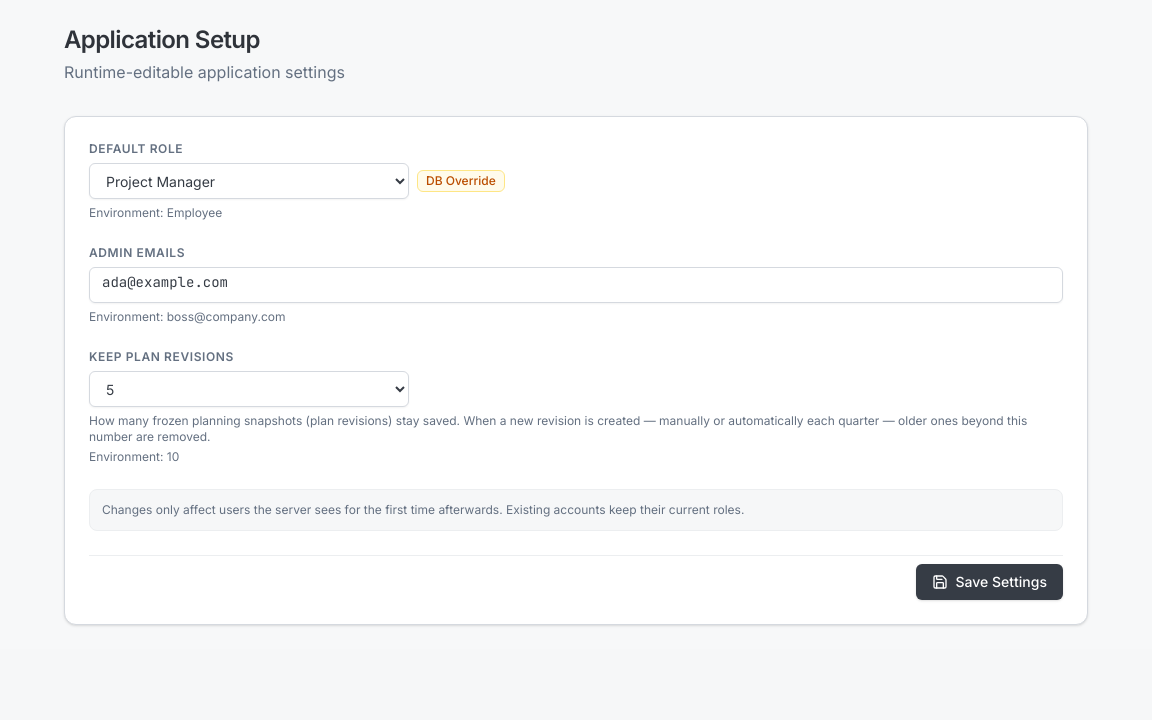
it: ApplicationSetup › blocks saving when an email line is invalid
This screenshot has width=1152, height=720.
Replace the text in the text box labelled "Admin Emails" with "not-an-email" at (576, 285), box [89,267,1063,303]
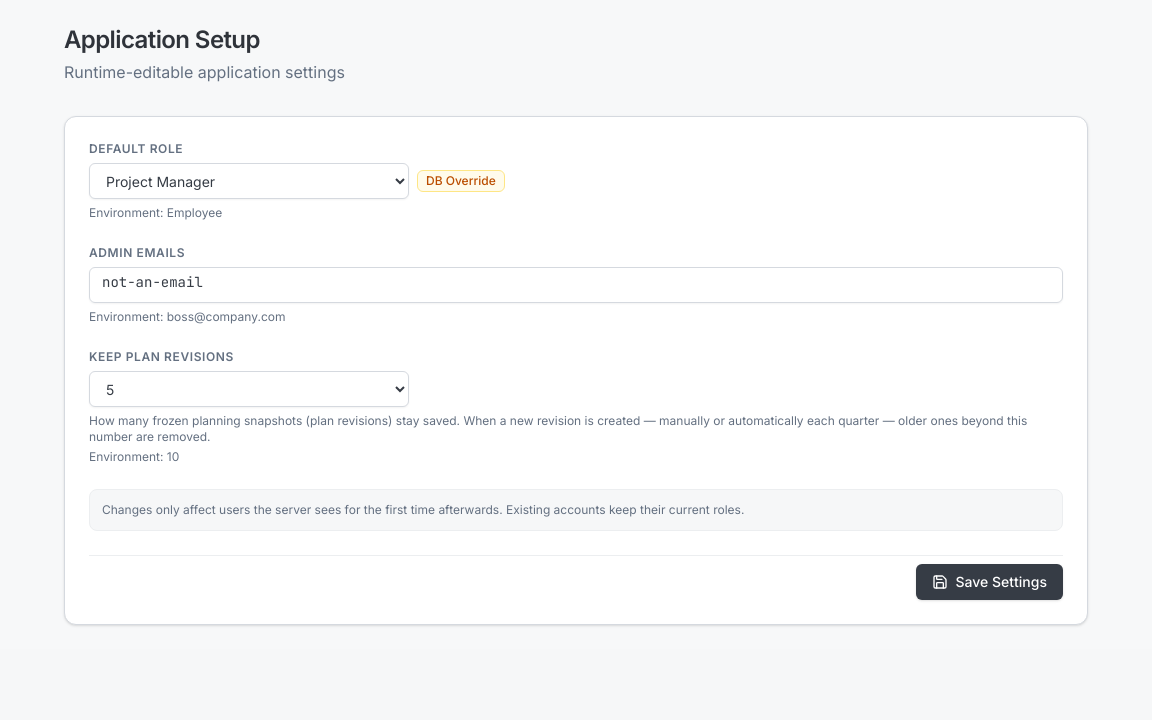
Click the button "Save Settings" at (989, 582), box [916,564,1063,600]
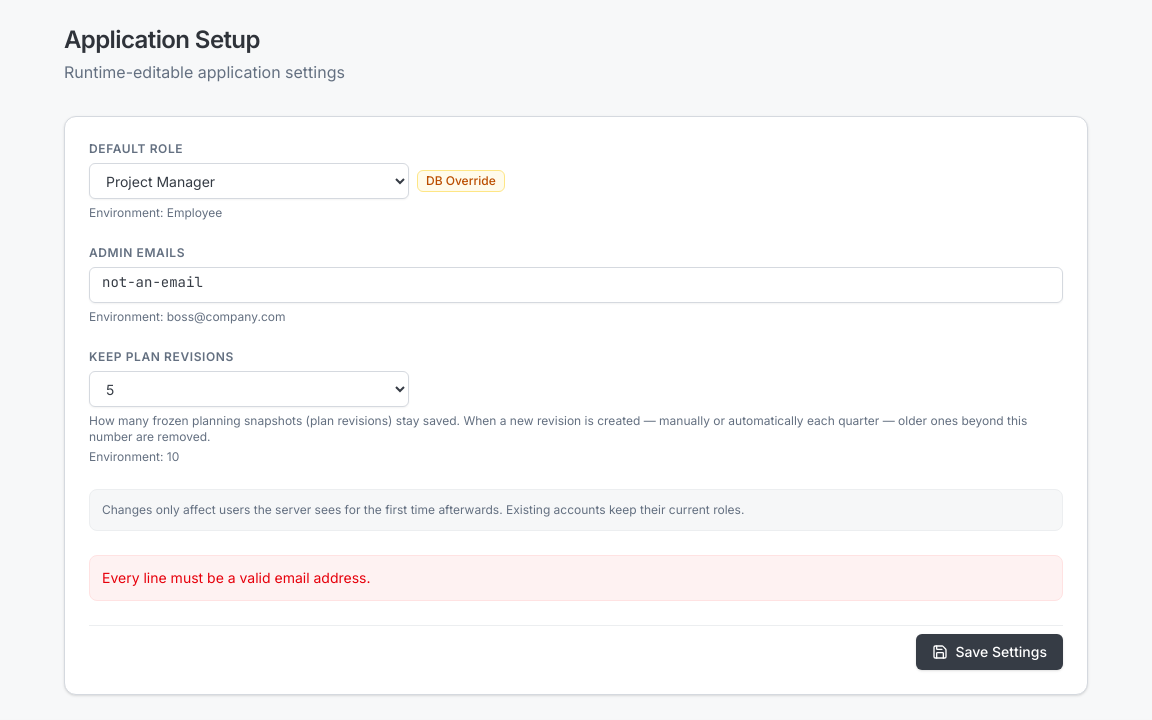
Expected: the text "Every line must be a valid email address." is shown, [89,555,1063,601]
